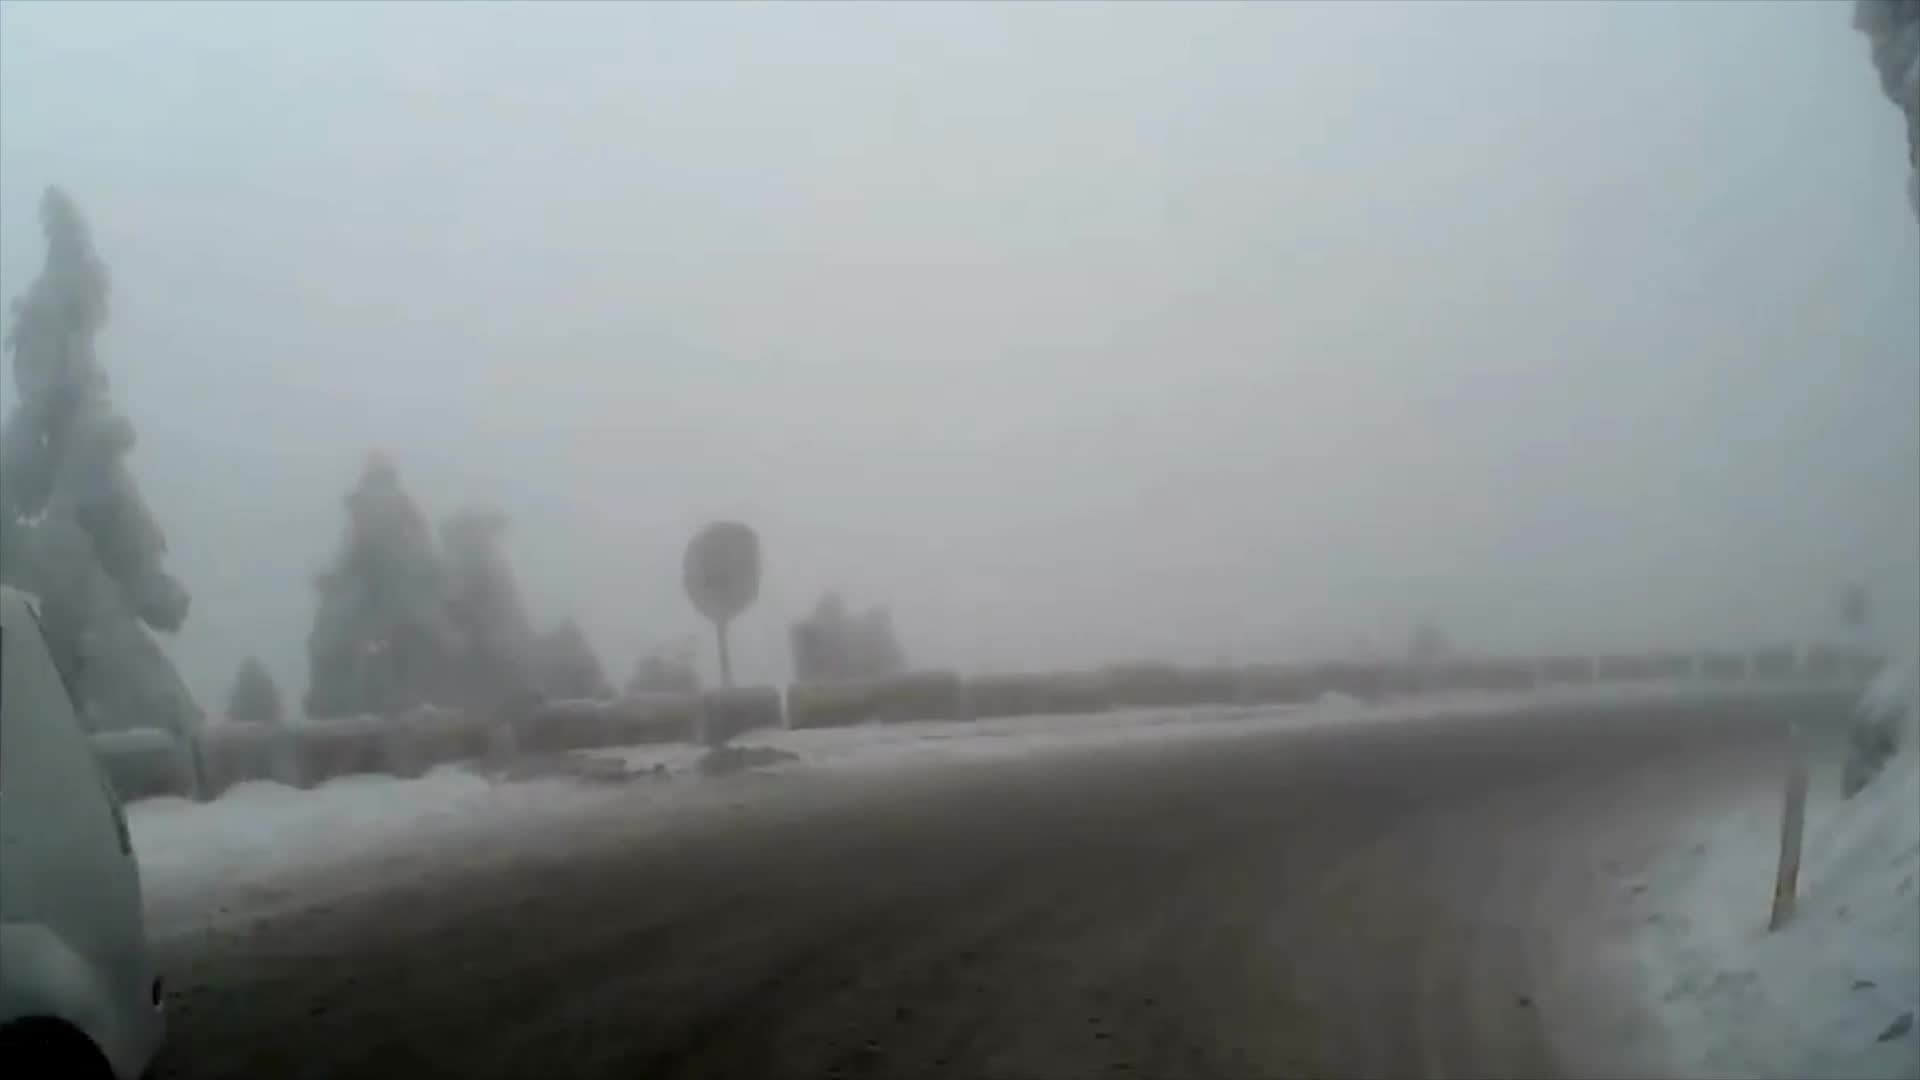vehicle: (0, 585, 165, 1080)
